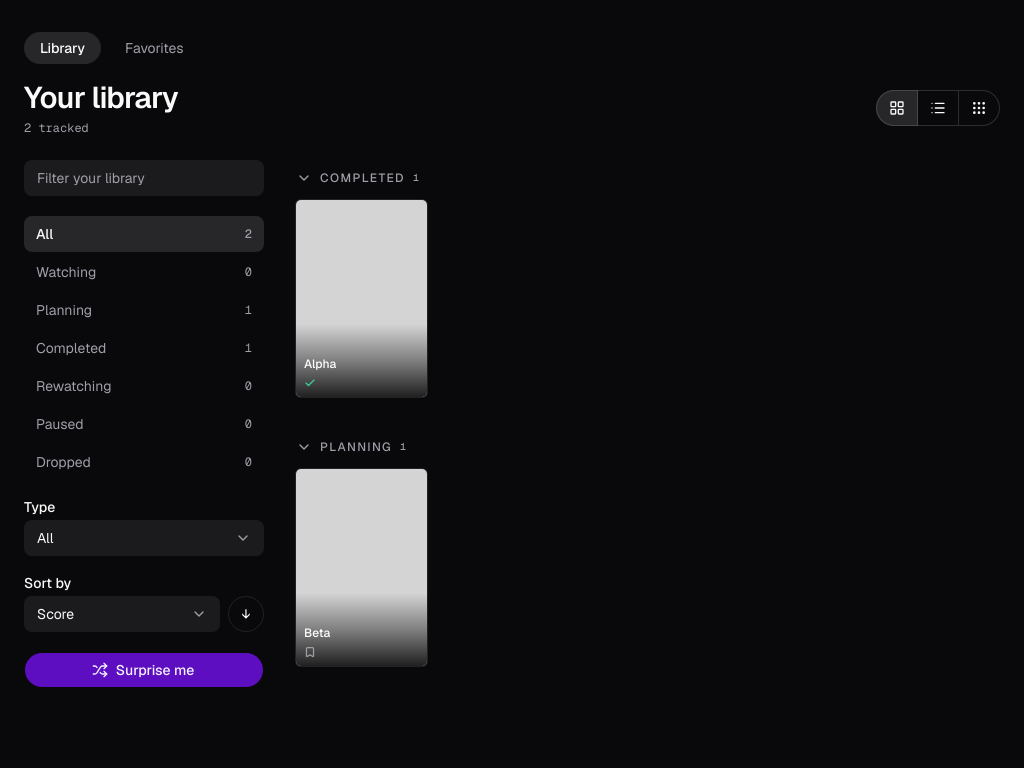
Test: LibraryView reach › opens on everything, and folds a group away and back
Expected: the heading "Planning 1" is shown, [296, 429, 1000, 465]
Click the 1st button "Completed 1" at (362, 178), box [288, 160, 1008, 196]
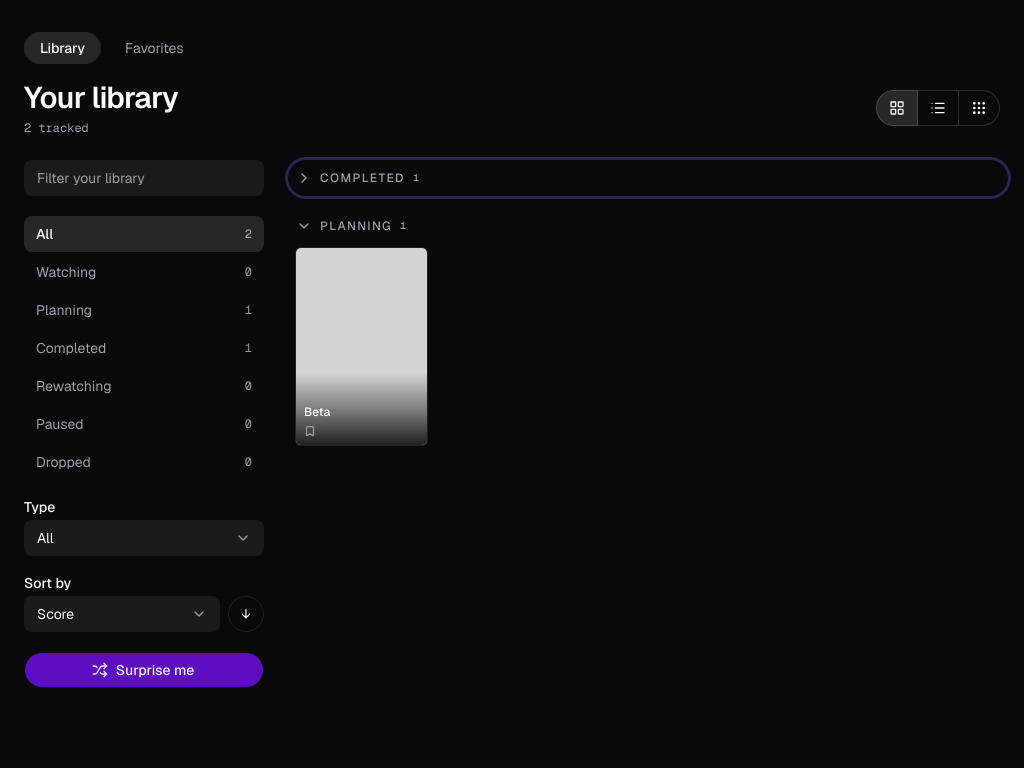
Expected: the text "Beta" is shown, [304, 404, 330, 420]
Expected: the 1st button "Completed 1" is collapsed
Expected: no links "Alpha" are shown
Click the 1st button "Completed 1" at (362, 178), box [288, 160, 1008, 196]
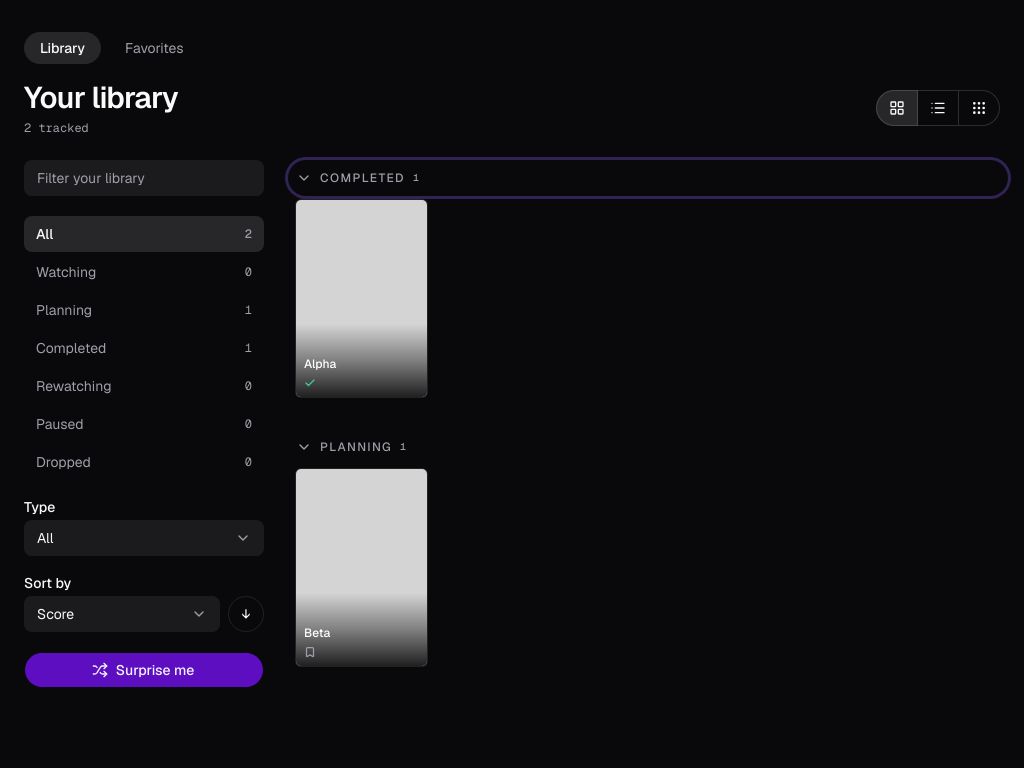
Expected: the text "Alpha" is shown, [304, 356, 336, 372]
